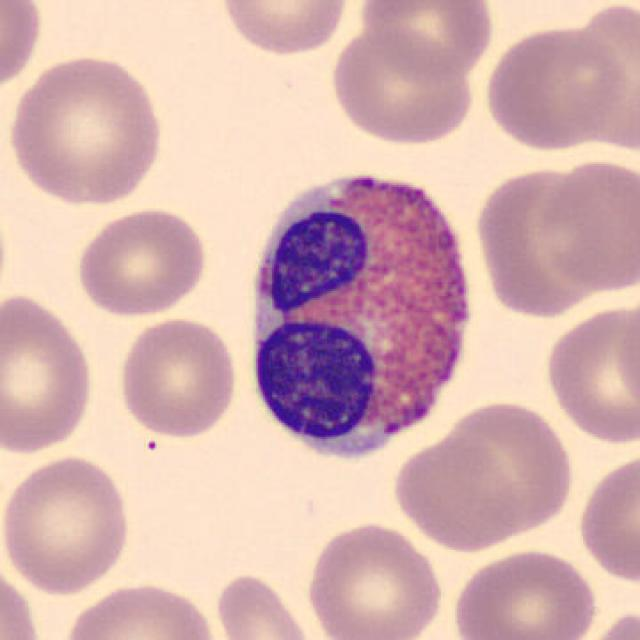Eosinophil: (237, 155, 486, 473)
RBC: (3, 49, 169, 208), (471, 160, 621, 321), (420, 395, 576, 546), (478, 20, 630, 154), (0, 451, 135, 598), (326, 25, 478, 146), (300, 518, 446, 640), (0, 289, 98, 459), (389, 432, 523, 554), (116, 314, 242, 441), (73, 205, 211, 319), (532, 155, 638, 296), (448, 545, 603, 640), (540, 300, 638, 448), (357, 0, 498, 85), (571, 0, 640, 150), (59, 578, 224, 640), (572, 448, 640, 589), (211, 567, 321, 640), (215, 0, 352, 58), (0, 0, 46, 97), (0, 557, 46, 638), (612, 294, 638, 430), (576, 604, 640, 640)
